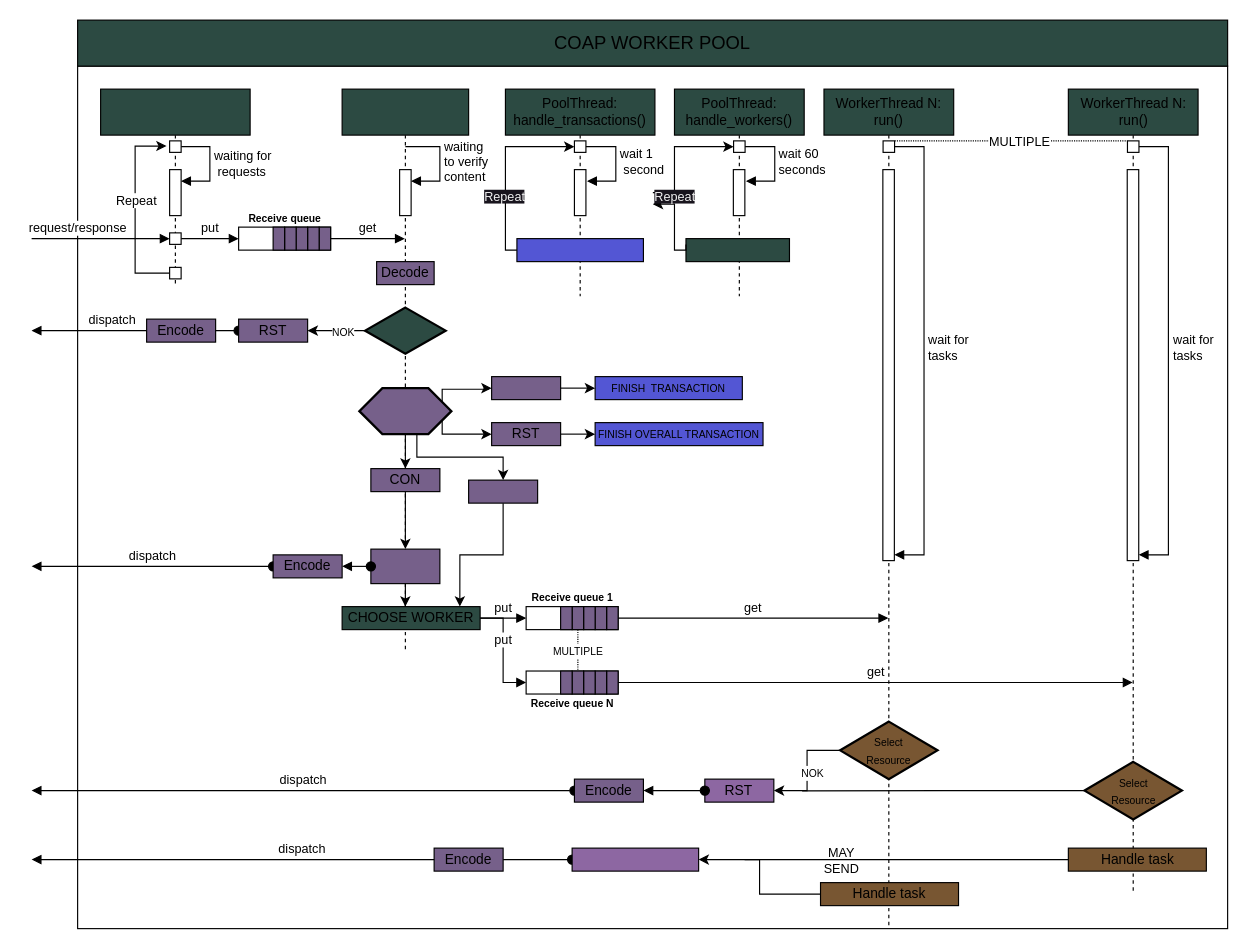
Some shapes in this 1248 by 949 pixel diagram are drawn without their labels. The shapes that lost their labels are listed below. From the top down, each one's box as (x1, y1, x2, y2) in pixels, then its label:
(99, 88, 250, 285): MainThread: listen()
(516, 237, 643, 262): Solve Transactions
(685, 237, 789, 262): Handle Workers
(363, 306, 446, 354): Coap Filter
(341, 88, 469, 653): PoolThread: coap_format_filter()
(490, 375, 561, 400): ACK
(358, 386, 452, 435): Message Type
(467, 479, 538, 503): NON
(370, 548, 440, 584): SEND ACK
(571, 847, 699, 871): RESPONSES
